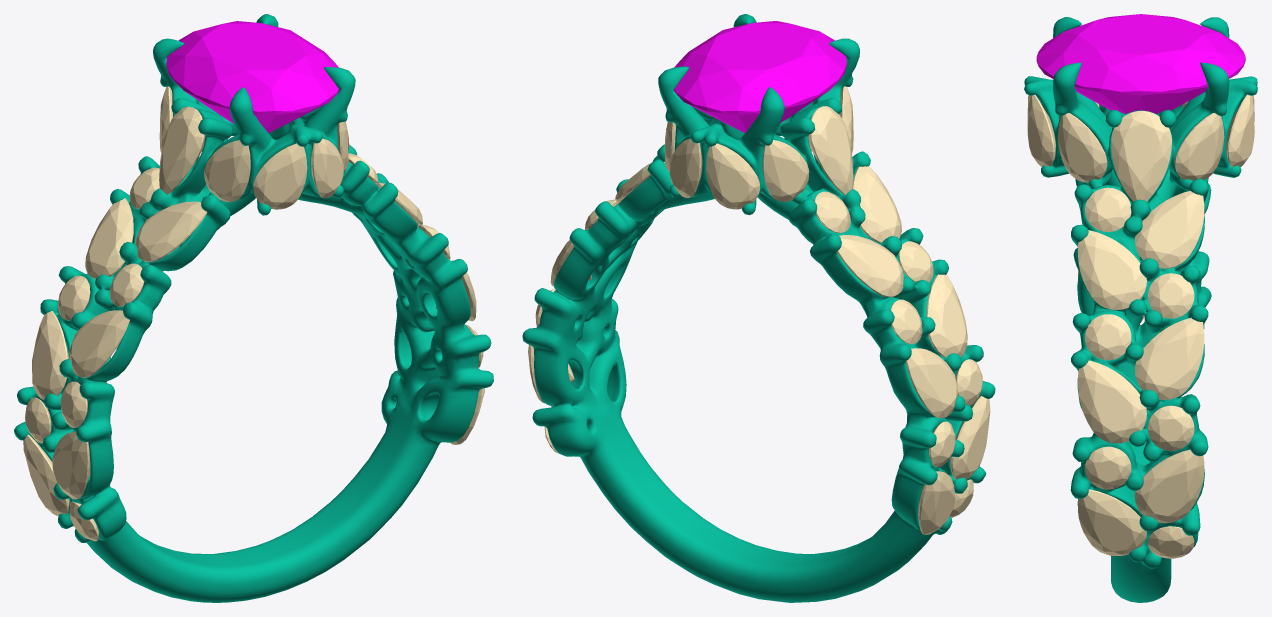
File: BE1D1855_OV_200ct_RENDER.glb
3 views of the same model, side by side, from view 1: azimuth 30°, elevation 25°; view 2: azimuth 150°, elevation 25°; view 3: azimuth 270°, elevation 25° (orthographic).
Parts seen in each view (by area): view 1: Metal 01, CS_Diamond_Oval, Diamond_Pear_Gem_SH.011, Diamond_Pear_Gem_SH.012, Diamond_Pear_Gem_SH.018, Diamond_Pear_Gem_SH.014, Diamond_Pear_Gem_SH.013, Diamond_Pear_Gem_SH.015, Diamond_Pear_Gem_SH.019, Diamond_Pear_Gem_SH.016, Diamond_Pear_Gem_SH.017, Diamond_Pear_Gem_SH.021 (+5 smaller); view 2: Metal 01, CS_Diamond_Oval, Diamond_Pear_Gem_SH.011, Diamond_Pear_Gem_SH.013, Diamond_Pear_Gem_SH.010, Diamond_Pear_Gem_SH.015, Diamond_Pear_Gem_SH.014, Diamond_Pear_Gem_SH.012, Diamond_Pear_Gem_SH.009, Diamond_Pear_Gem_SH.016, Diamond_Pear_Gem_SH.017, Diamond_Pear_Gem_SH.007 (+5 smaller); view 3: Metal 01, CS_Diamond_Oval, Diamond_Pear_Gem_SH, Diamond_Pear_Gem_SH.004, Diamond_Pear_Gem_SH.003, Diamond_Pear_Gem_SH.002, Diamond_Pear_Gem_SH.001, Diamond_Pear_Gem_SH.005, Diamond_Pear_Gem_SH.006, Diamond_Pear_Gem_SH.020, Diamond_Pear_Gem_SH.008, Diamond_Round_Gem_SH.010 (+7 smaller).
Part boxes in pixels (box(x1,y1,x2,y2)): Metal 01: box(14, 14, 493, 602); CS_Diamond_Oval: box(166, 21, 339, 133); Diamond_Pear_Gem_SH.011: box(159, 106, 205, 194); Diamond_Pear_Gem_SH.012: box(135, 201, 207, 261); Diamond_Pear_Gem_SH.018: box(253, 143, 307, 209); Diamond_Pear_Gem_SH.014: box(69, 310, 129, 377); Diamond_Pear_Gem_SH.013: box(85, 198, 133, 279); Diamond_Pear_Gem_SH.015: box(32, 311, 69, 399); Diamond_Pear_Gem_SH.019: box(204, 140, 250, 202); Diamond_Pear_Gem_SH.016: box(52, 431, 90, 499); Diamond_Pear_Gem_SH.017: box(23, 434, 69, 516); Diamond_Pear_Gem_SH.021: box(311, 138, 344, 198); Metal 01: box(522, 14, 995, 602); CS_Diamond_Oval: box(673, 21, 846, 132); Diamond_Pear_Gem_SH.011: box(808, 106, 853, 195); Diamond_Pear_Gem_SH.013: box(837, 235, 903, 297); Diamond_Pear_Gem_SH.010: box(706, 143, 759, 209); Diamond_Pear_Gem_SH.015: box(905, 348, 958, 418); Diamond_Pear_Gem_SH.014: box(926, 274, 967, 357); Diamond_Pear_Gem_SH.012: box(852, 166, 901, 242); Diamond_Pear_Gem_SH.009: box(762, 140, 809, 201); Diamond_Pear_Gem_SH.016: box(950, 396, 990, 479); Diamond_Pear_Gem_SH.017: box(918, 471, 955, 534); Diamond_Pear_Gem_SH.007: box(669, 138, 702, 198); Metal 01: box(1024, 17, 1257, 602); CS_Diamond_Oval: box(1036, 14, 1245, 113); Diamond_Pear_Gem_SH: box(1111, 110, 1171, 201); Diamond_Pear_Gem_SH.004: box(1078, 360, 1146, 443); Diamond_Pear_Gem_SH.003: box(1135, 318, 1204, 399); Diamond_Pear_Gem_SH.002: box(1078, 230, 1146, 309); Diamond_Pear_Gem_SH.001: box(1135, 191, 1204, 268); Diamond_Pear_Gem_SH.005: box(1135, 449, 1204, 523); Diamond_Pear_Gem_SH.006: box(1078, 489, 1146, 555); Diamond_Pear_Gem_SH.020: box(1058, 113, 1107, 182); Diamond_Pear_Gem_SH.008: box(1174, 113, 1224, 180); Diamond_Round_Gem_SH.010: box(1085, 314, 1131, 360).
Size of the model in its own units: 20.64 by 25.97 by 10.08.
